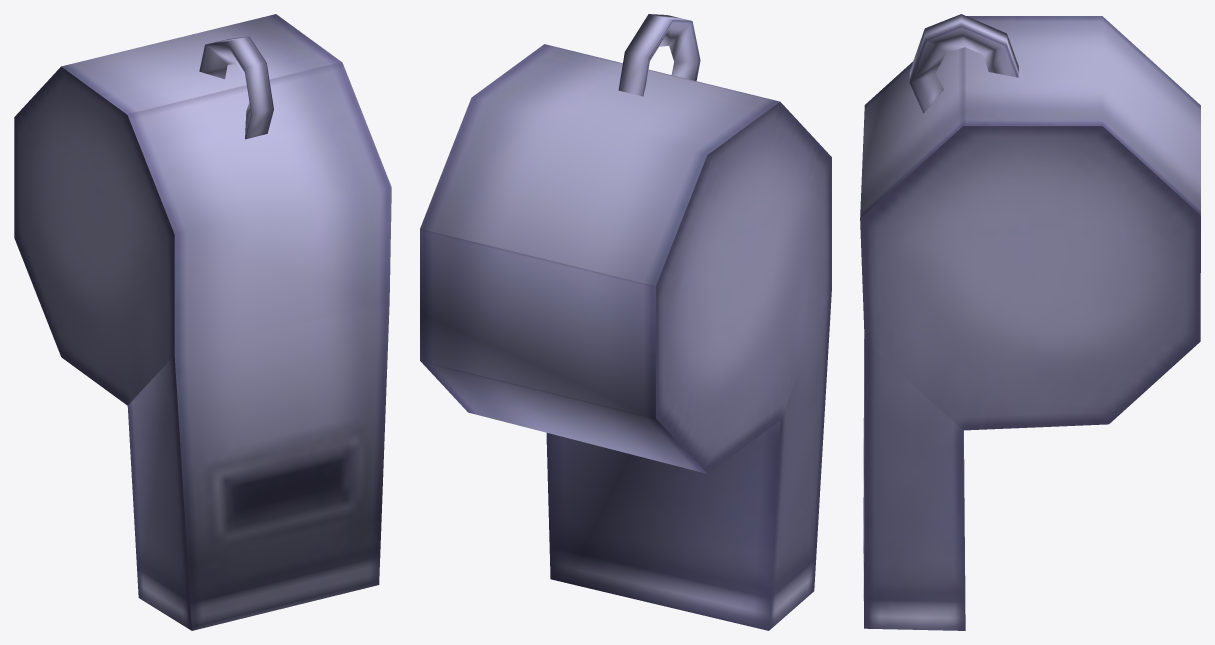
The model's file is whistle.glb.
The picture shows the model from 3 angles, left to right: view 1: azimuth 30°, elevation 25°; view 2: azimuth 150°, elevation 25°; view 3: azimuth 270°, elevation 25°; orthographic projection. The views are drawn at different scales.
Visible parts, largest first — view 1: round, mouthpiece, hole; view 2: round, mouthpiece, hole; view 3: round, mouthpiece, hole.
Boxes of the visible parts, x1,y1,x2,y2 form: round: [14, 14, 391, 405]; mouthpiece: [127, 302, 389, 630]; hole: [199, 36, 273, 139]; round: [420, 44, 831, 473]; mouthpiece: [546, 290, 831, 630]; hole: [618, 14, 700, 96]; round: [860, 16, 1200, 430]; mouthpiece: [863, 338, 965, 630]; hole: [909, 14, 1018, 113].
Bounding box in the file's own units: 4.91 × 11.67 × 6.43.
Materials: 2 (2 with a texture image).
